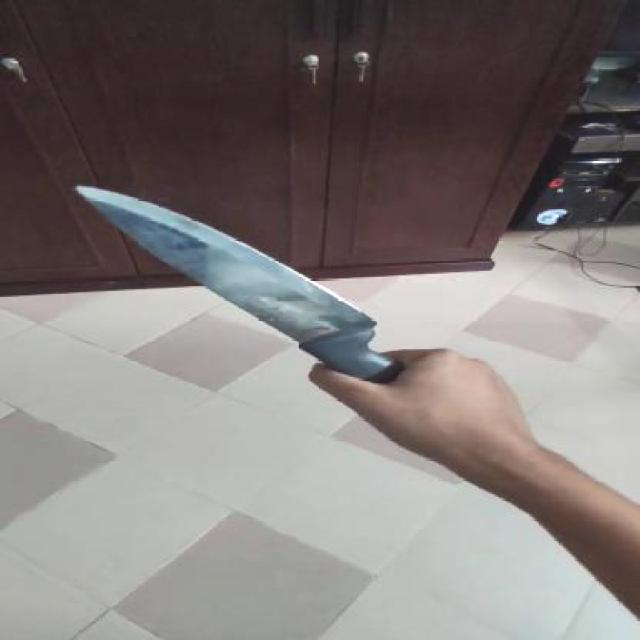knife: (16, 174, 384, 368)
